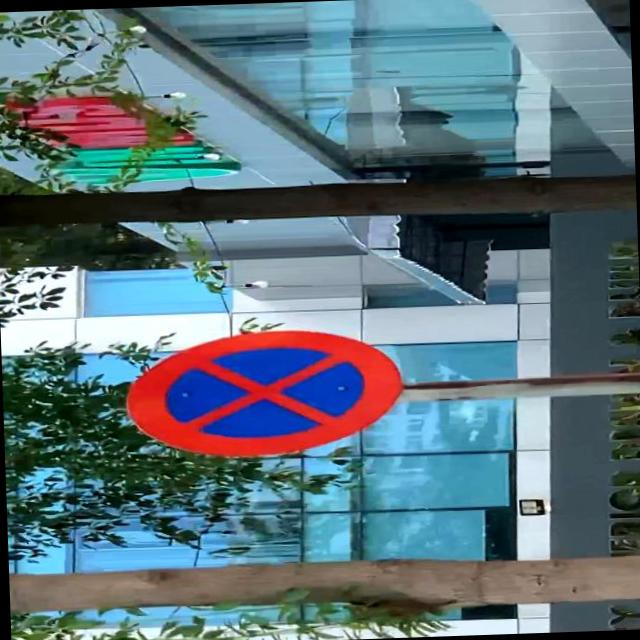P-130: (124, 327, 400, 460)
